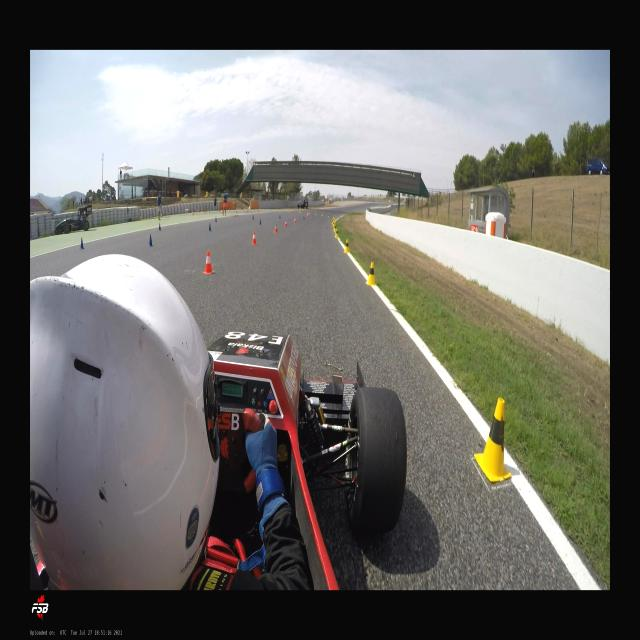orange_cone: (204, 251, 214, 274), (252, 232, 256, 244), (274, 225, 278, 232), (285, 220, 287, 227), (294, 218, 296, 224)
unknown_cone: (148, 234, 154, 247), (80, 238, 84, 250), (208, 222, 212, 232), (159, 222, 161, 230), (215, 216, 217, 222), (260, 219, 262, 225), (252, 214, 254, 220), (279, 214, 281, 219)
yellow_cone: (474, 398, 511, 482), (366, 262, 376, 286), (344, 239, 349, 253), (334, 228, 338, 238), (334, 224, 336, 231), (332, 222, 334, 226)
